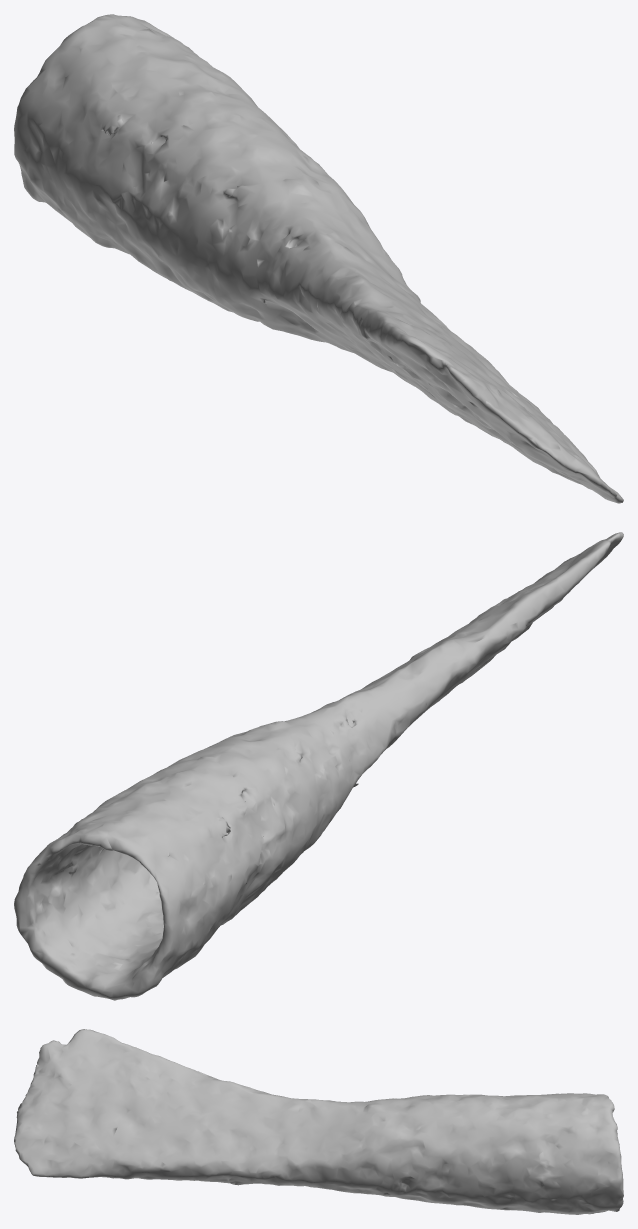
The picture shows the model from 3 angles, top to bottom: view 1: azimuth 30°, elevation 25°; view 2: azimuth 150°, elevation 25°; view 3: azimuth 270°, elevation 25°; orthographic projection. The views are drawn at different scales.
Visible parts, largest first — view 1: object; view 2: object; view 3: object.
Part boxes in pixels (left/top/right/bottom): object: left=14, top=14, right=623, bottom=503; object: left=14, top=532, right=623, bottom=1000; object: left=14, top=1029, right=623, bottom=1214.
Size of the model in its own units: 27.67 by 25.96 by 104.
Materials: 1 (1 with a texture image).
